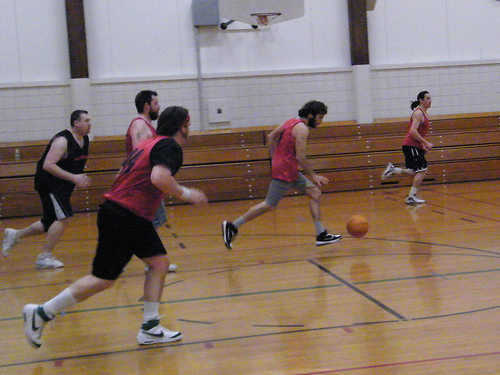basketball: (344, 214, 371, 237)
